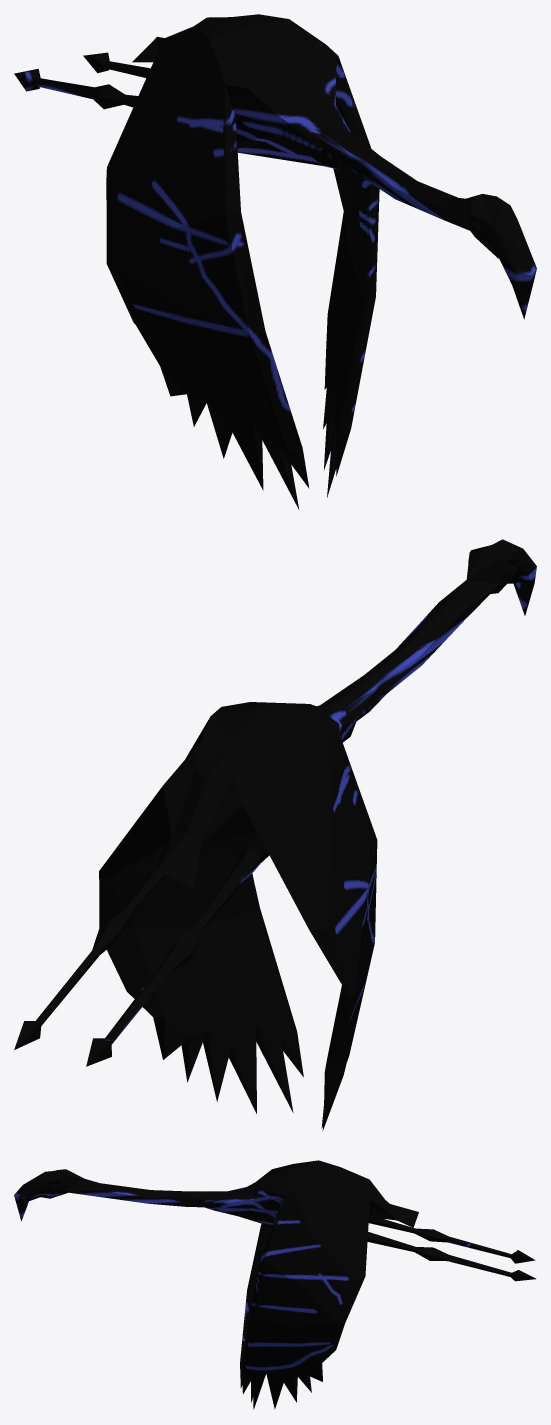
File: card1.glb
The picture shows the model from 3 angles, top to bottom: view 1: azimuth 30°, elevation 25°; view 2: azimuth 150°, elevation 25°; view 3: azimuth 270°, elevation 25°; orthographic projection. The views are drawn at different scales.
Parts seen in each view (by area): view 1: node_id4; view 2: node_id4; view 3: node_id4.
Boxes of the visible parts, x1,y1,x2,y2 form: node_id4: [14, 14, 536, 509]; node_id4: [14, 539, 536, 1130]; node_id4: [14, 1160, 536, 1409].
Size of the model in its own units: 0.3 by 0.512 by 1.01.
Materials: 1 (1 with a texture image).
